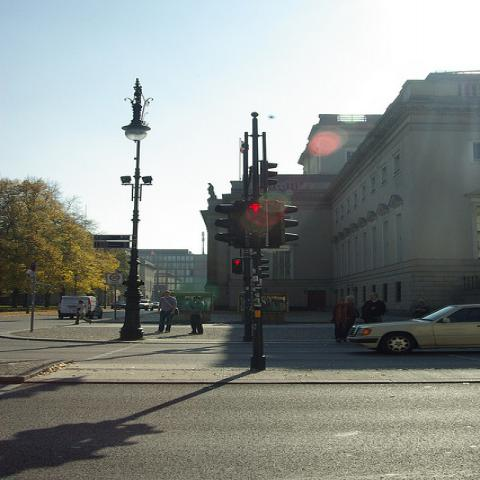car: (348, 304, 479, 354), (140, 299, 154, 311), (110, 301, 126, 311), (152, 302, 160, 308)
truck: (60, 295, 100, 319)
